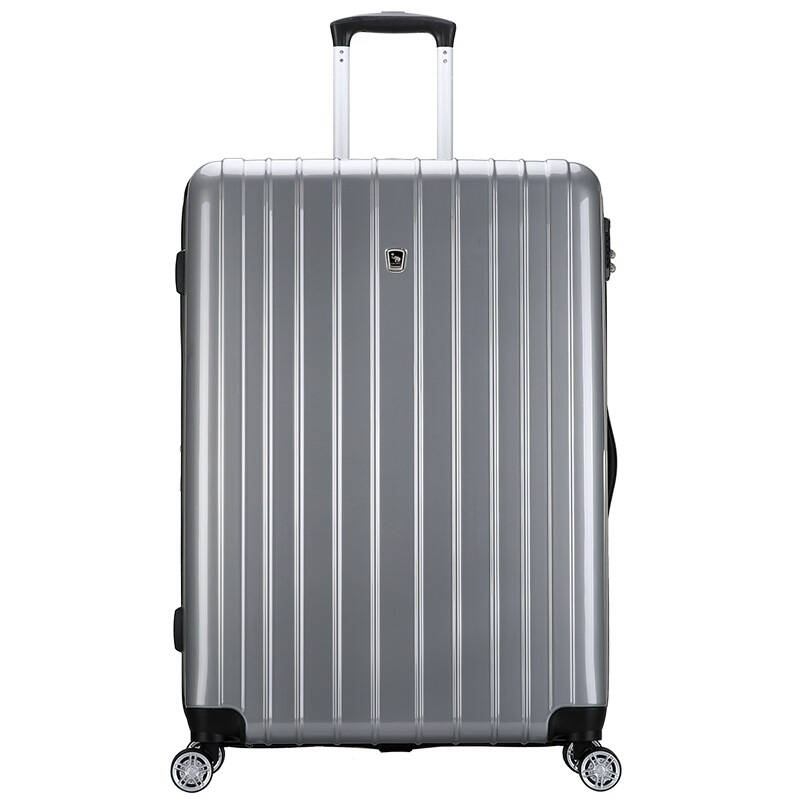suitcase: (169, 10, 618, 794)
